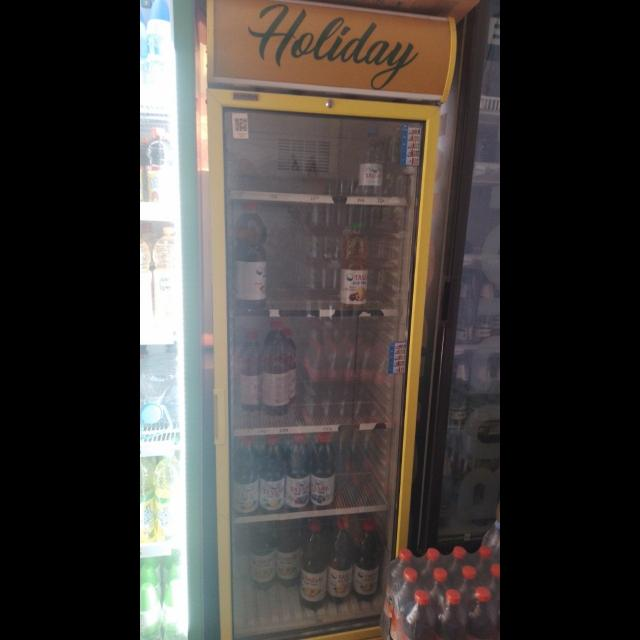Cooling-Display: (207, 1, 457, 640)
